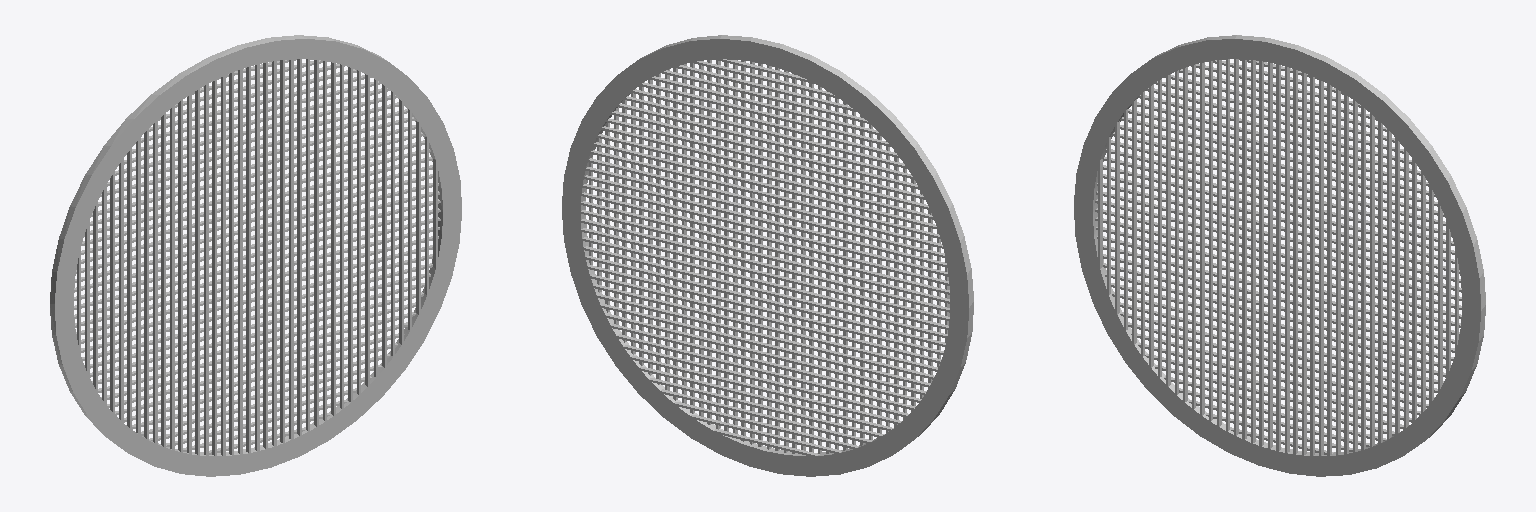
Rendered from Mosquito net for research v5.obj.
3 views of the same model, side by side, from view 1: azimuth 30°, elevation 25°; view 2: azimuth 150°, elevation 25°; view 3: azimuth 330°, elevation 25° (orthographic).
Parts seen in each view (by area): view 1: Body1720; view 2: Body1720; view 3: Body1720.
Part boxes in pixels (x1,y1,x2,y2): Body1720: (50, 35, 461, 476); Body1720: (562, 35, 973, 476); Body1720: (1074, 35, 1485, 476).
Size of the model in its own units: 7.68 by 7.67 by 0.16.